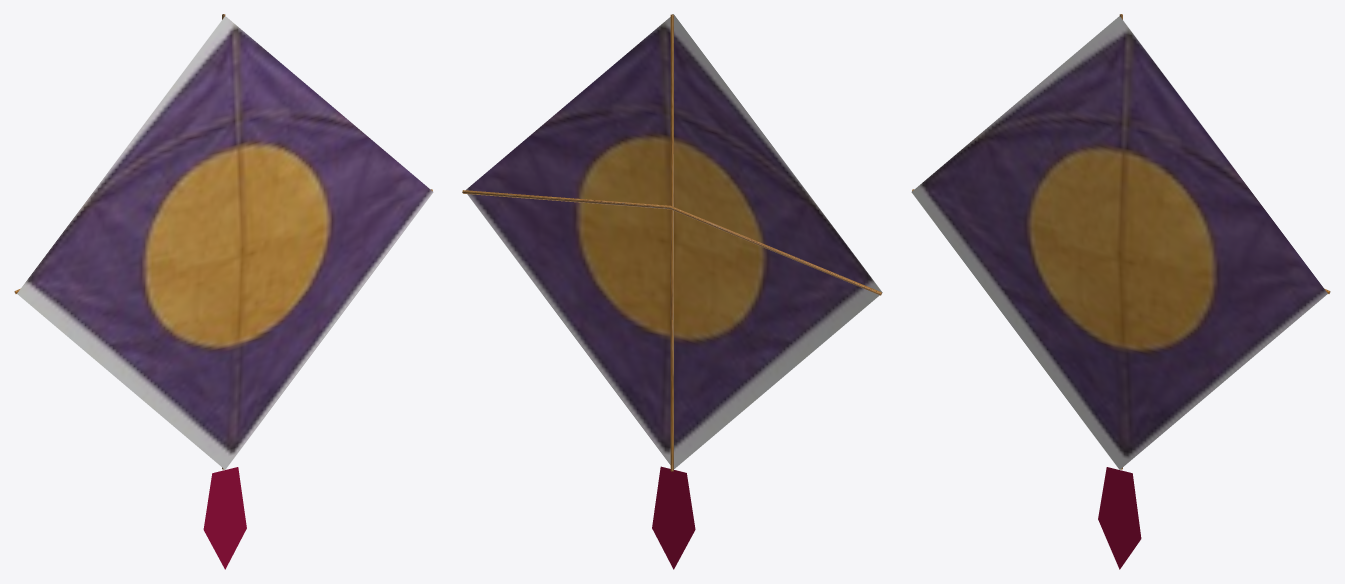
The model's file is prop_kite_ghuri.glb.
The picture shows the model from 3 angles, left to right: view 1: azimuth 30°, elevation 25°; view 2: azimuth 150°, elevation 25°; view 3: azimuth 330°, elevation 25°; orthographic projection.
Visible parts, largest first — view 1: prop_kite_ghuri; view 2: prop_kite_ghuri; view 3: prop_kite_ghuri.
Part boxes in pixels (<box>): prop_kite_ghuri: <box>14,14,433,569</box>; prop_kite_ghuri: <box>462,14,882,569</box>; prop_kite_ghuri: <box>911,14,1330,569</box>.
Size of the model in its own units: 0.394 by 0.5 by 0.0213.
3 materials, 2 textured.
